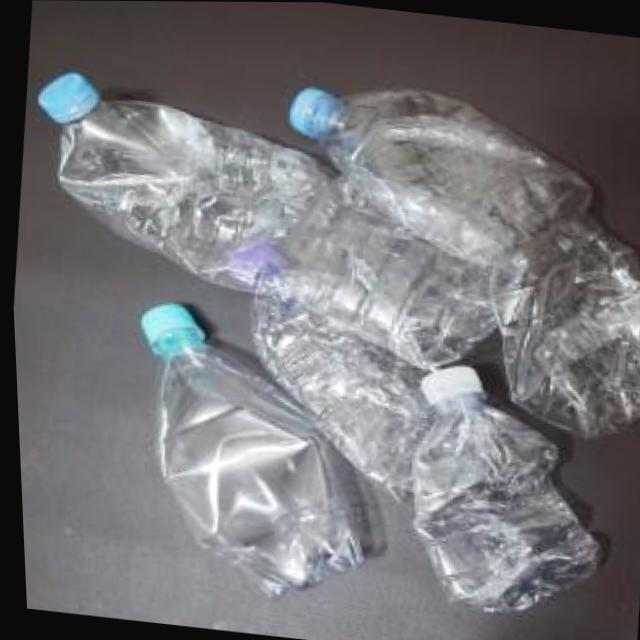anorganik: (4, 36, 301, 303)
